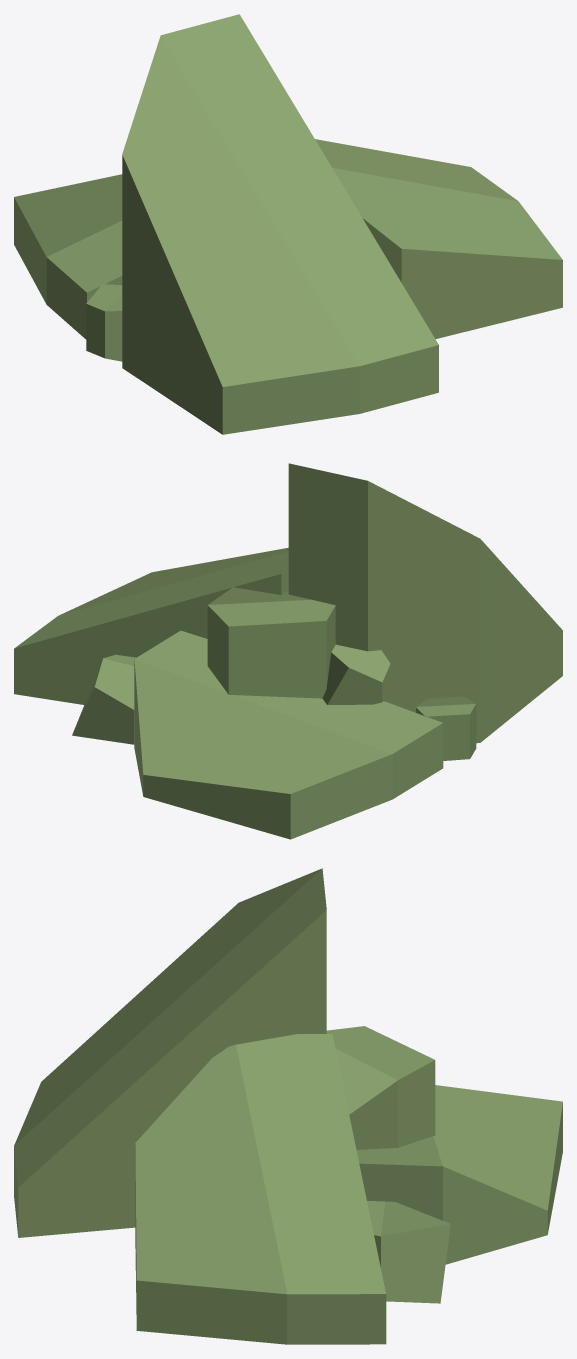
The model's file is brigesRock_Type5_02_mesh_001.fbx.
3 renders of one model, top to bottom at view 1: azimuth 30°, elevation 25°; view 2: azimuth 150°, elevation 25°; view 3: azimuth 270°, elevation 25°, orthographic. The views are drawn at different scales.
Parts seen in each view (by area): view 1: Rock Type5 02 mesh.001; view 2: Rock Type5 02 mesh.001; view 3: Rock Type5 02 mesh.001.
Part boxes in pixels (bbox=[...]): Rock Type5 02 mesh.001: bbox=[14, 14, 562, 434]; Rock Type5 02 mesh.001: bbox=[14, 463, 562, 839]; Rock Type5 02 mesh.001: bbox=[14, 868, 562, 1344].
Size of the model in its own units: 209 by 133 by 218.
